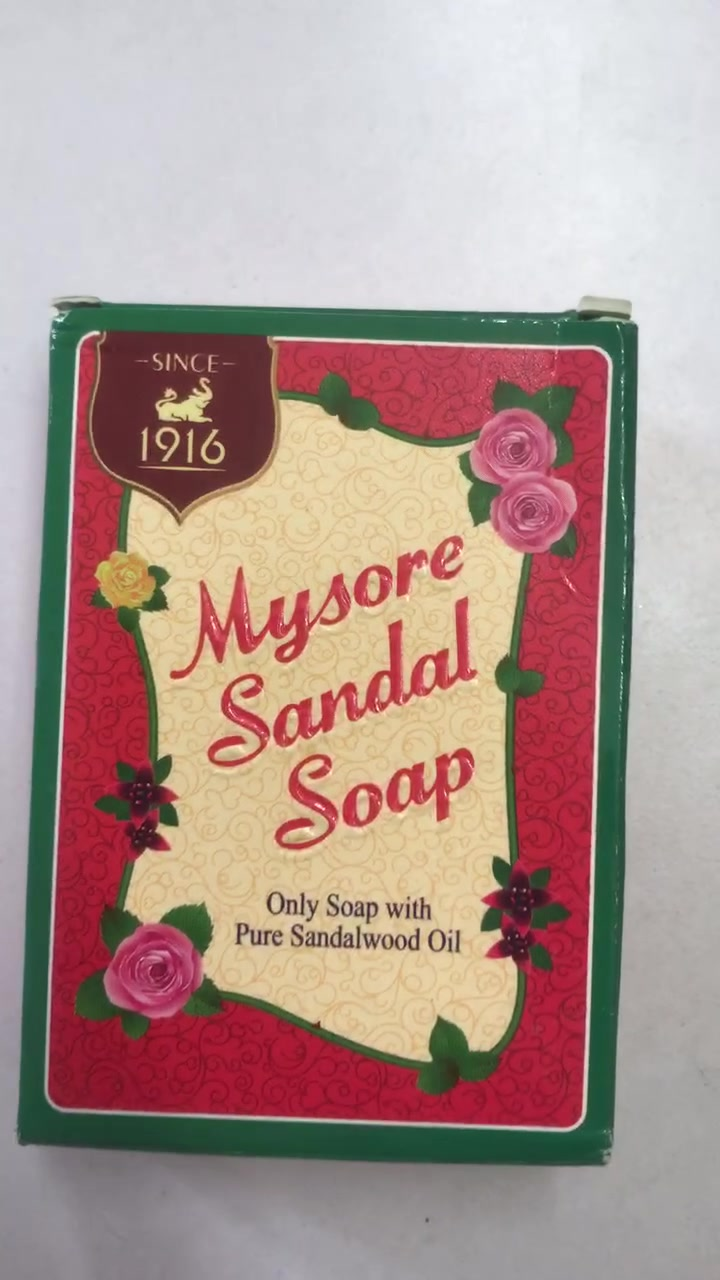mysore sandal soap: (35, 307, 610, 1163)
